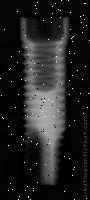Neoss: (19, 16, 71, 188)
